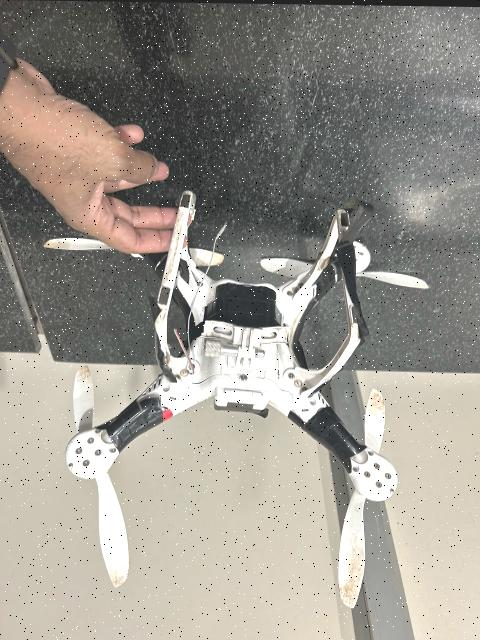drone: (0, 171, 464, 624)
